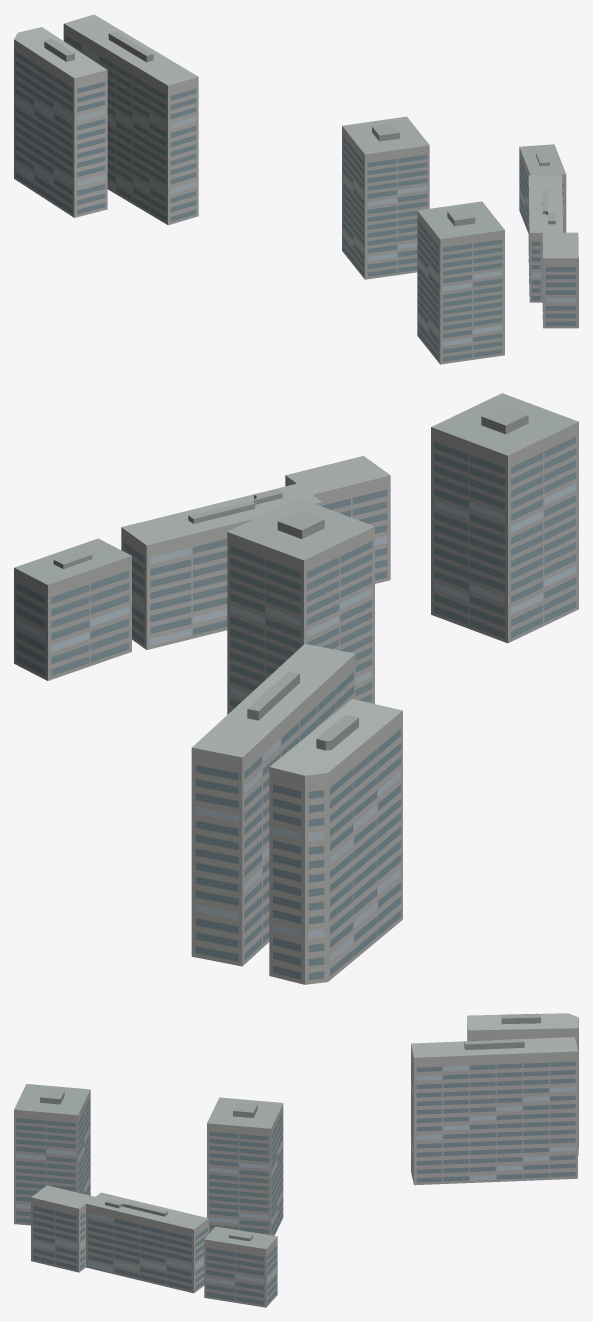
The model's file is apt-a15106101.glb.
The picture shows the model from 3 angles, top to bottom: view 1: azimuth 30°, elevation 25°; view 2: azimuth 150°, elevation 25°; view 3: azimuth 270°, elevation 25°; orthographic projection. The views are drawn at different scales.
Parts seen in each view (by area): view 1: apt-a15106101; view 2: apt-a15106101; view 3: apt-a15106101.
Part boxes in pixels (left/top/right/bottom): apt-a15106101: left=14, top=14, right=578, bottom=364; apt-a15106101: left=14, top=393, right=578, bottom=984; apt-a15106101: left=14, top=1013, right=578, bottom=1307.
Size of the model in its own units: 129 by 47.81 by 184.
